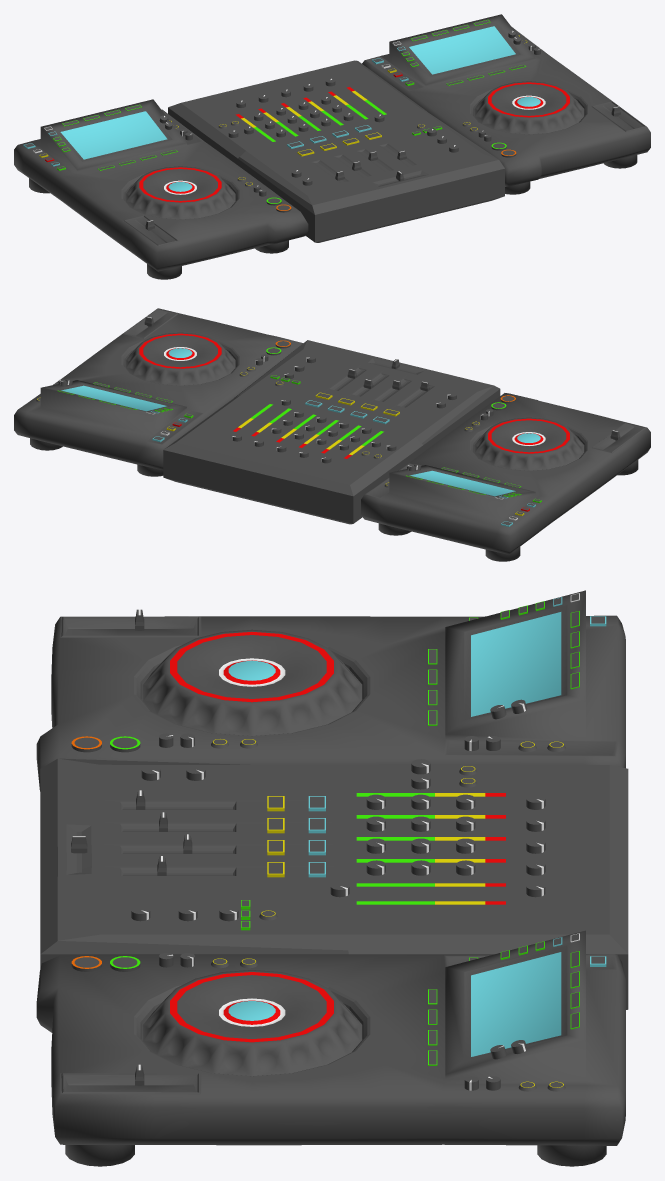
Rendered from dj_set.fbx.
3 renders of one model, top to bottom at view 1: azimuth 30°, elevation 25°; view 2: azimuth 150°, elevation 25°; view 3: azimuth 270°, elevation 25°, orthographic. The views are drawn at different scales.
Visible parts, largest first — view 1: djset; view 2: djset; view 3: djset.
Part boxes in pixels (x1=…): djset: x1=14, y1=14, x2=650, y2=279; djset: x1=14, y1=308, x2=650, y2=561; djset: x1=36, y1=590, x2=628, y2=1166.
Bounding box in the file's own units: 76.86 × 8.45 × 39.59.
